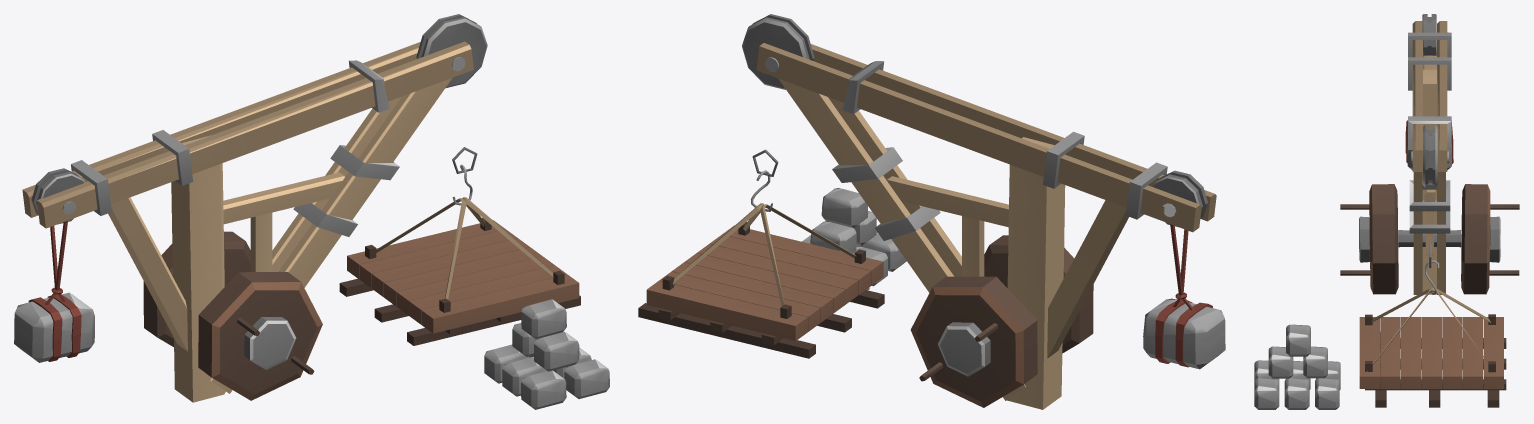
File: winch_1lvl_separate.fbx
3 renders of one model, left to right at view 1: azimuth 30°, elevation 25°; view 2: azimuth 150°, elevation 25°; view 3: azimuth 270°, elevation 25°, orthographic. The views are drawn at different scales.
Visible parts, largest first — view 1: winch_1lvl, base_ver2, thebiggest_wheel_ver2, polySurface5, big_wheel, small_wheel; view 2: winch_1lvl, base_ver2, thebiggest_wheel_ver2, polySurface5, big_wheel, small_wheel; view 3: winch_1lvl, base_ver2, thebiggest_wheel_ver2, big_wheel, small_wheel, polySurface5.
Boxes of the visible parts, x1,y1,x2,y2 form: winch_1lvl: (22, 41, 609, 409); base_ver2: (339, 147, 580, 345); thebiggest_wheel_ver2: (143, 231, 322, 400); polySurface5: (14, 220, 94, 362); big_wheel: (416, 14, 487, 88); small_wheel: (31, 168, 84, 224); winch_1lvl: (756, 43, 1216, 409); base_ver2: (638, 149, 884, 358); thebiggest_wheel_ver2: (910, 235, 1093, 407); polySurface5: (1143, 224, 1225, 369); big_wheel: (742, 14, 814, 89); small_wheel: (1153, 170, 1207, 227); winch_1lvl: (1254, 21, 1451, 409); base_ver2: (1359, 244, 1506, 407); thebiggest_wheel_ver2: (1340, 184, 1519, 294); big_wheel: (1423, 124, 1437, 187); small_wheel: (1422, 14, 1436, 55); polySurface5: (1405, 120, 1453, 170).
Bounding box in the file's own units: 7.18 × 4.08 × 3.75.
